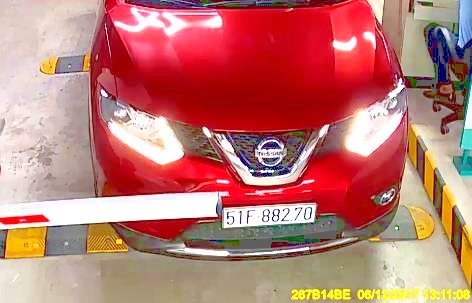plate: (222, 197, 318, 233)
